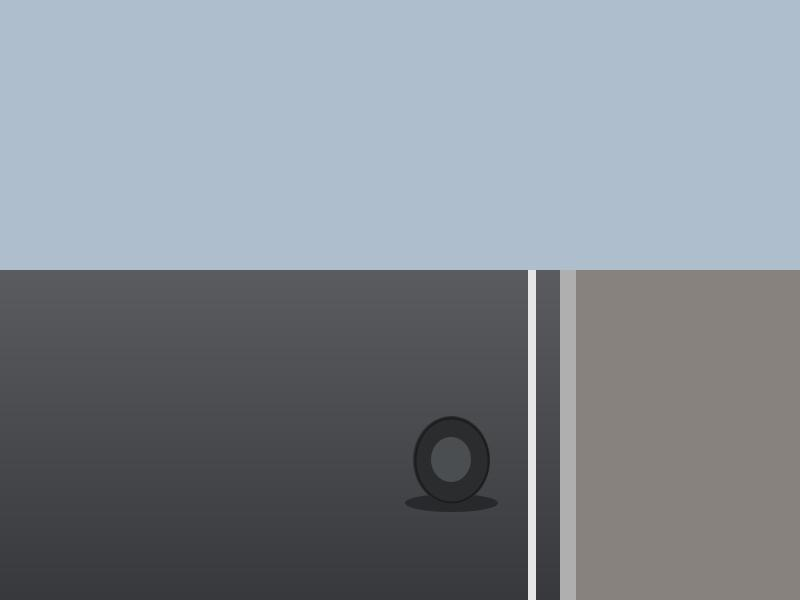ROAD_OBSTACLE: (413, 416, 490, 504)
